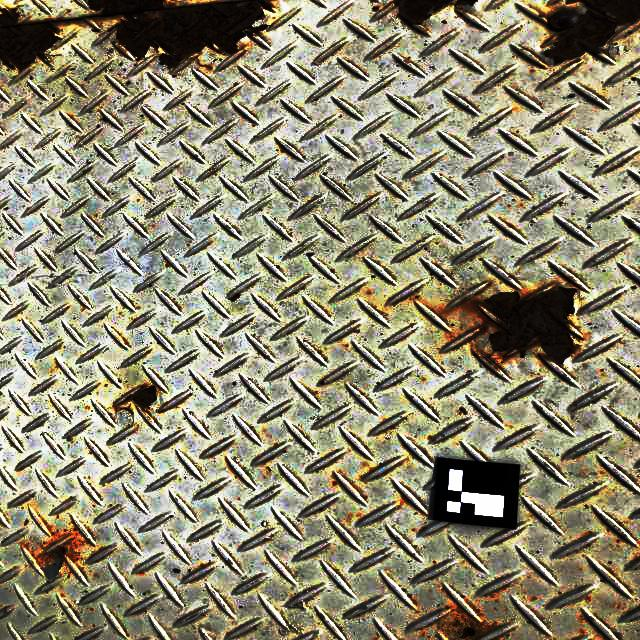Corrosion: (87, 0, 271, 68), (460, 282, 584, 365), (543, 0, 640, 65), (0, 3, 62, 72), (393, 0, 478, 33), (437, 608, 507, 640), (39, 538, 86, 565), (121, 384, 156, 407)
